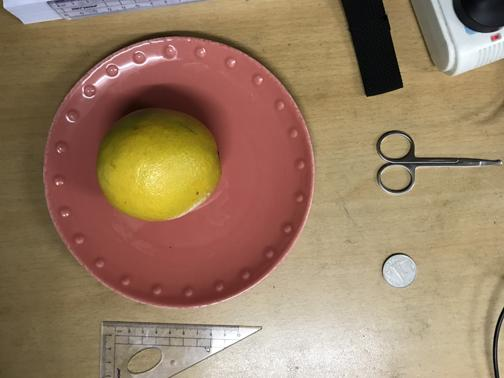coin: (383, 250, 418, 287)
orange: (93, 111, 222, 222)
